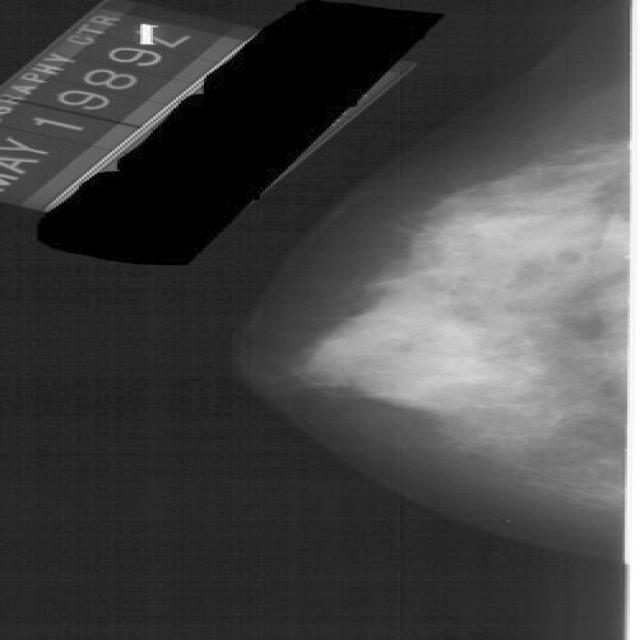tumour: (439, 207, 599, 280)
